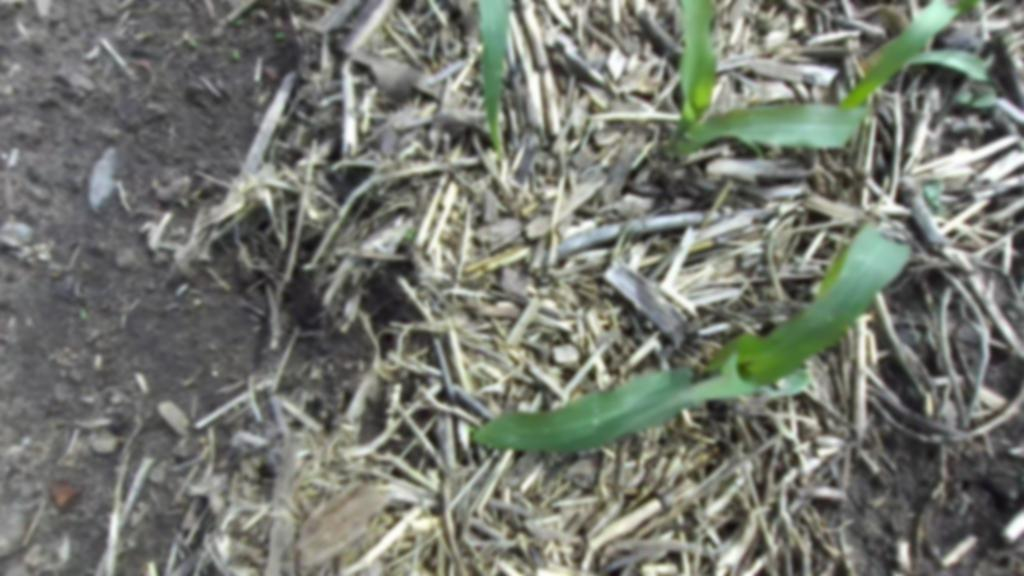BroWeed: (575, 72, 617, 114), (761, 404, 800, 449), (966, 82, 1000, 112), (920, 176, 945, 207), (952, 86, 976, 106), (944, 495, 962, 516), (638, 80, 658, 98), (403, 226, 417, 242), (186, 36, 199, 50), (933, 204, 948, 216), (1009, 447, 1024, 458), (591, 103, 604, 114), (78, 306, 88, 320), (232, 47, 241, 59), (233, 18, 244, 27), (274, 32, 286, 39), (466, 426, 475, 432)
Maize: (464, 209, 949, 535)
